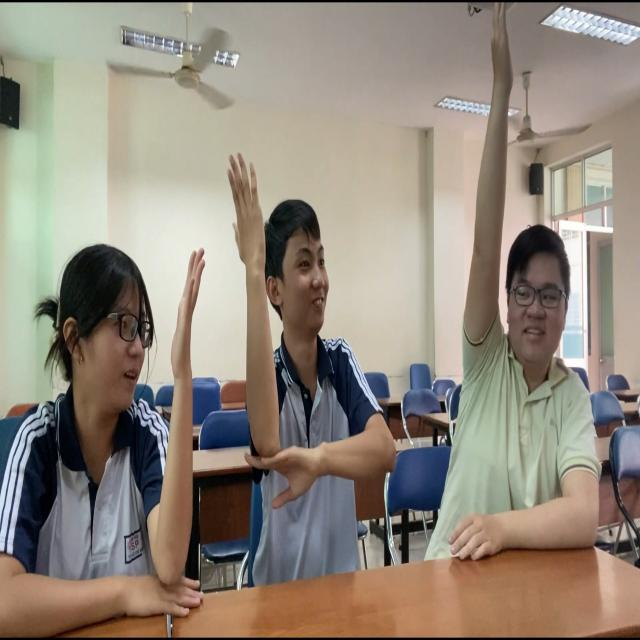raise_hand: (444, 1, 617, 619), (1, 231, 212, 640)
